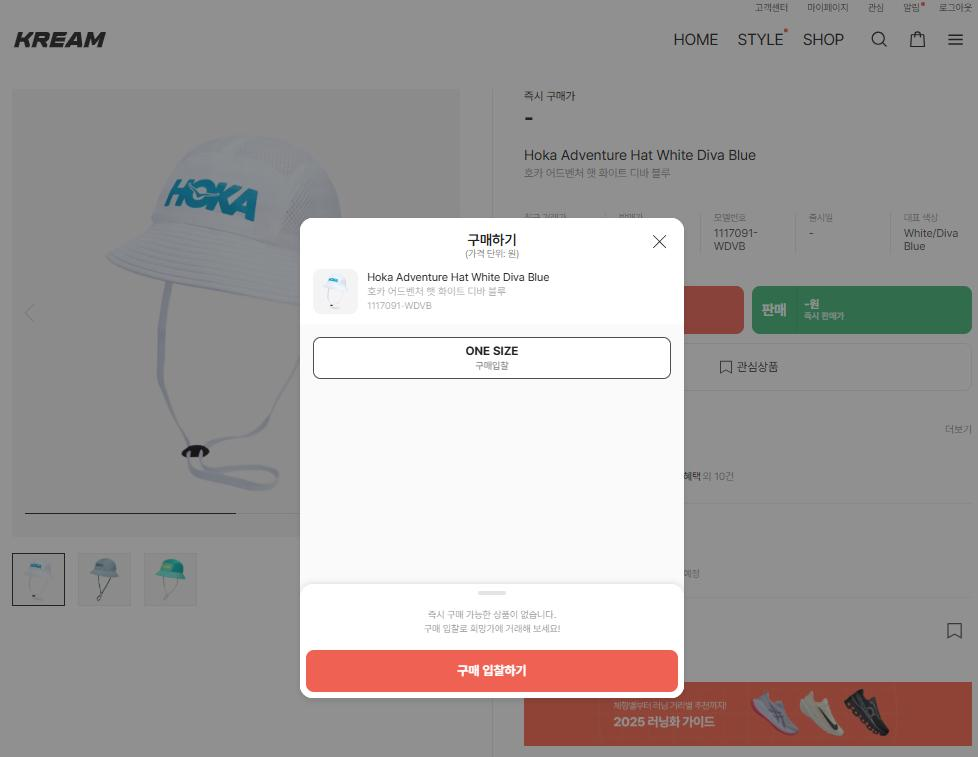button: (302, 641, 682, 696), (310, 332, 674, 385), (752, 284, 975, 336), (10, 551, 66, 609), (77, 550, 131, 608), (144, 550, 198, 608), (664, 29, 724, 54), (734, 28, 788, 54), (800, 26, 850, 51), (646, 226, 677, 263), (942, 418, 978, 445), (942, 26, 973, 55), (944, 616, 971, 649), (865, 25, 895, 54), (804, 1, 854, 17), (904, 26, 932, 54), (936, 0, 978, 18), (752, 1, 794, 17), (863, 0, 890, 18), (900, 1, 929, 17)
